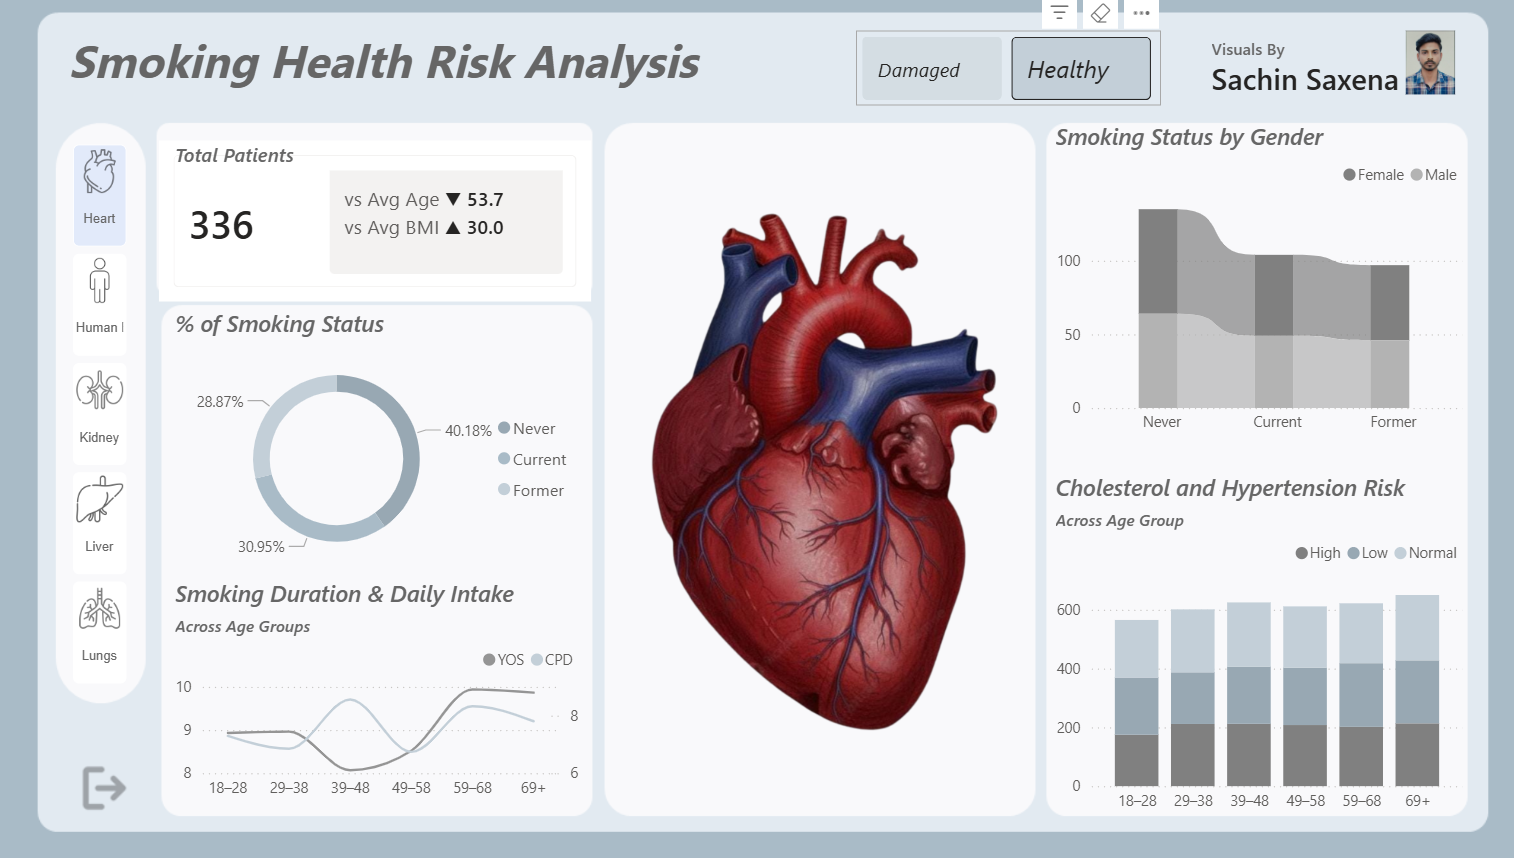

The dashboard page shown, as its layout file describes it:
{"tool":"powerbi","page":{"name":"Page 1","canvas":[1280,720],"ordinal":0},"visuals":[{"type":"cardVisual","fields":{"Data":["CountNonNull(health_dataset.Patient_ID)"]},"box":[134.8,118.1,366.4,143.8],"z":0},{"type":"textbox","box":[148.4,118.1,249.8,57.5],"z":1000},{"type":"advancedSlicerVisual","fields":{"Values":["condition.Organ_Condition"]},"box":[714.7,33.3,249.8,62.1],"z":2000},{"type":"image","box":[513.3,118.1,346.8,557.2],"z":3000},{"type":"ChicletSlicer1448559807354","fields":{"Category":["Organs.Organ"],"Image":["Organs.Icon_URL"]},"box":[60.6,118.1,74.2,475.5],"z":4000},{"type":"donutChart","title":"% of Smoking Status","fields":{"Category":["health_dataset.Smoking_Status"],"Y":["CountNonNull(health_dataset.Smoking_Status)"]},"box":[148.4,262,342.2,222.6],"z":5000},{"type":"lineChart","title":"Smoking Duration & Daily Intake","fields":{"Category":["health_dataset.Age Group"],"Y":["Avg(health_dataset.Years_of_Smoking)"],"Y2":["Avg(health_dataset.Cigarettes_Per_Day)"]},"box":[148.4,484.5,342.2,190.8],"z":6000},{"type":"ribbonChart","title":"Smoking Status by Gender","fields":{"Category":["health_dataset.Smoking_Status"],"Y":["CountNonNull(health_dataset.Patient_ID)"],"Series":["health_dataset.Gender"]},"box":[873.7,107.5,345.2,266.5],"z":7000},{"type":"columnChart","title":"Cholesterol and Hypertension Risk","fields":{"Category":["health_dataset.Age Group"],"Y":["Avg(health_dataset.Cholesterol_Level)"],"Series":["health_dataset.BP_Risk"]},"box":[873.7,396.7,345.2,289.2],"z":8000},{"type":"textbox","box":[60.6,27.3,579.9,80.3],"z":9000},{"type":"textbox","box":[1002.4,33.3,277.1,307.4],"z":10000},{"type":"image","box":[1141.7,33.3,90.9,53],"z":11000}]}

Visuals, with their boxes on the page's 1280x720 design canvas (x1, y1, x2, y2). These are canvas units, not pixel positions in the 1514x858 screenshot, which may show the page scaled, cropped or inside an application window:
cardVisual - CountNonNull(health_dataset.Patient_ID): x1=135 y1=118 x2=501 y2=262
textbox: x1=148 y1=118 x2=398 y2=176
advancedSlicerVisual - condition.Organ_Condition: x1=715 y1=33 x2=964 y2=95
image: x1=513 y1=118 x2=860 y2=675
ChicletSlicer1448559807354 - Organs.Organ x Organs.Icon_URL: x1=61 y1=118 x2=135 y2=594
"% of Smoking Status" donutChart: x1=148 y1=262 x2=491 y2=485
"Smoking Duration & Daily Intake" lineChart: x1=148 y1=484 x2=491 y2=675
"Smoking Status by Gender" ribbonChart: x1=874 y1=108 x2=1219 y2=374
"Cholesterol and Hypertension Risk" columnChart: x1=874 y1=397 x2=1219 y2=686
textbox: x1=61 y1=27 x2=640 y2=108
textbox: x1=1002 y1=33 x2=1280 y2=341
image: x1=1142 y1=33 x2=1233 y2=86
